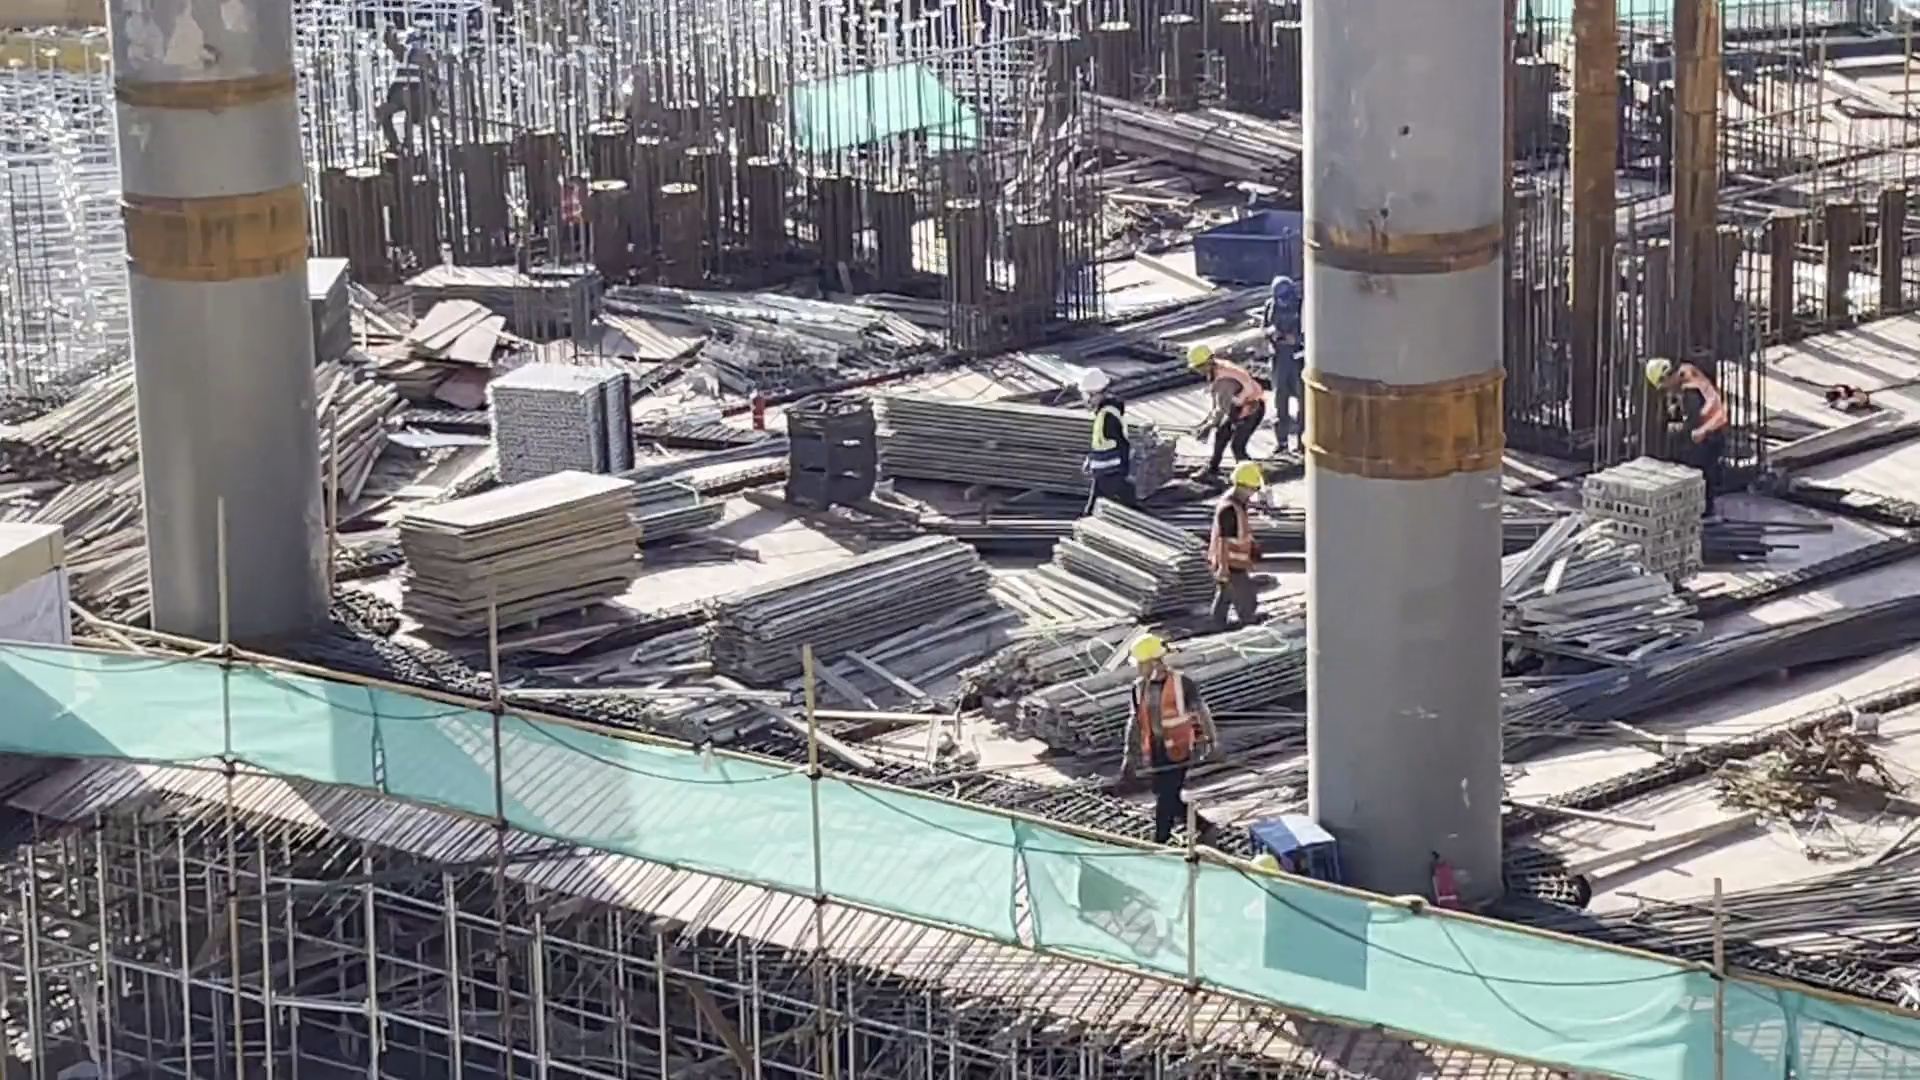board: (434, 489, 643, 631), (323, 267, 471, 394), (398, 266, 581, 326), (1, 498, 81, 631)
helmet: (1132, 636, 1170, 673), (1653, 350, 1684, 386), (1188, 346, 1218, 380), (1273, 274, 1302, 308), (1232, 458, 1261, 488), (1080, 372, 1102, 398), (387, 25, 409, 49)
hopper: (1201, 206, 1304, 277)
person: (1629, 361, 1738, 475), (1131, 655, 1194, 828), (1218, 461, 1261, 640), (1073, 378, 1124, 505), (1193, 350, 1259, 443), (1274, 278, 1309, 428), (386, 26, 443, 105)
rebar: (1491, 580, 1920, 748), (1596, 816, 1920, 1002), (926, 511, 1796, 560), (1049, 268, 1276, 385)
scaffold: (496, 361, 646, 484)
vest: (1666, 366, 1731, 441), (1156, 667, 1204, 767), (1211, 362, 1264, 431), (1271, 321, 1316, 389), (1104, 419, 1138, 497), (1221, 494, 1258, 562), (396, 53, 433, 92)
wood: (1101, 109, 1343, 211), (79, 481, 176, 601), (49, 374, 168, 452)
